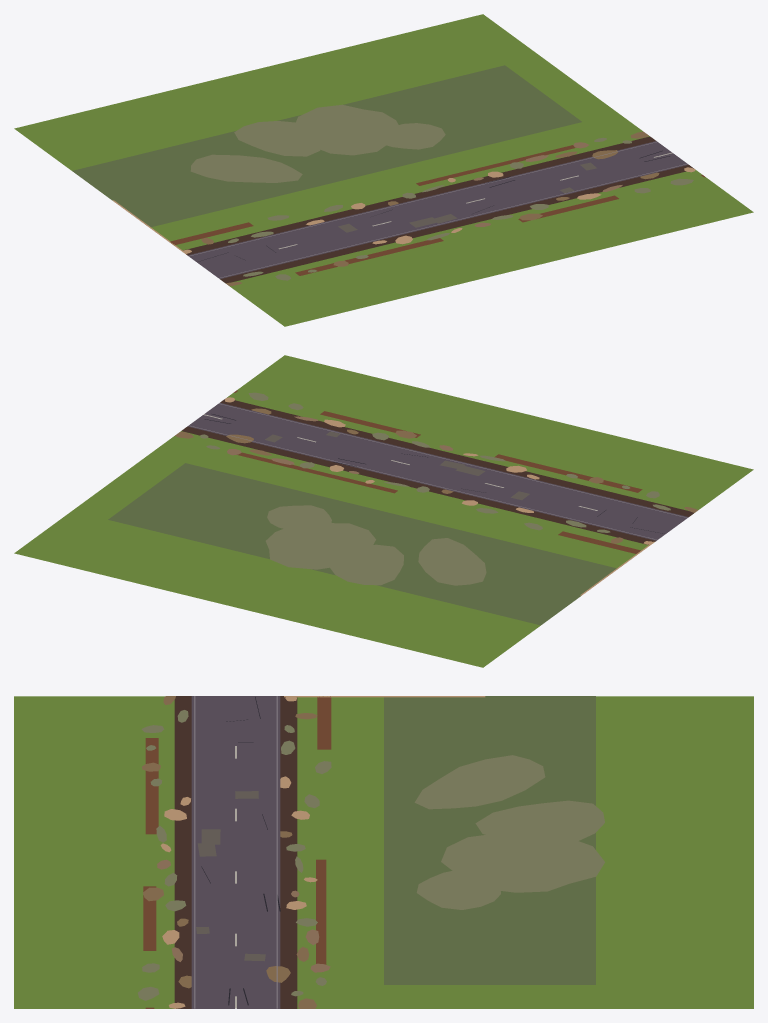
Rendered from crossing-6-0.glb.
The picture shows the model from 3 angles, top to bottom: view 1: azimuth 30°, elevation 25°; view 2: azimuth 150°, elevation 25°; view 3: azimuth 270°, elevation 25°; orthographic projection. The views are drawn at different scales.
Parts seen in each view (by area): view 1: crossing-6-0; view 2: crossing-6-0; view 3: crossing-6-0.
Boxes of the visible parts, box(x1,y1,x2,y2) form: crossing-6-0: box(14, 14, 753, 326); crossing-6-0: box(14, 355, 753, 667); crossing-6-0: box(14, 696, 753, 1008).
Size of the model in its own units: 100 by 0.0145 by 100.
